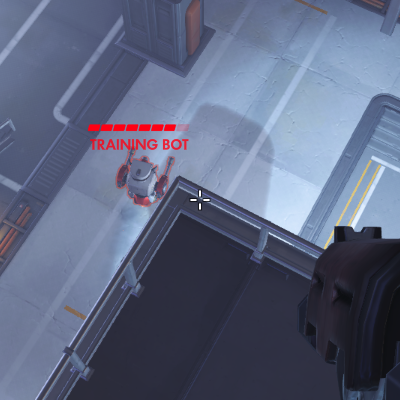hpbar: (87, 123, 190, 132)
